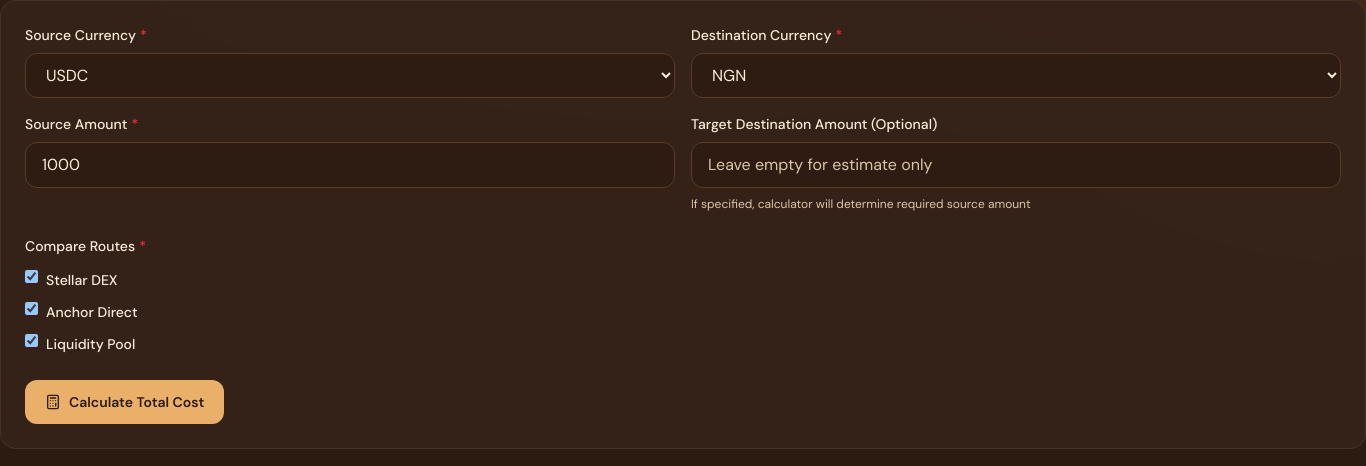
Test: CostCalculator – canSubmit guard › re-enables submit when a route is checked again
Step 1. Click the checkbox labelled "Stellar DEX" → (32, 276), box [25,270,38,283]
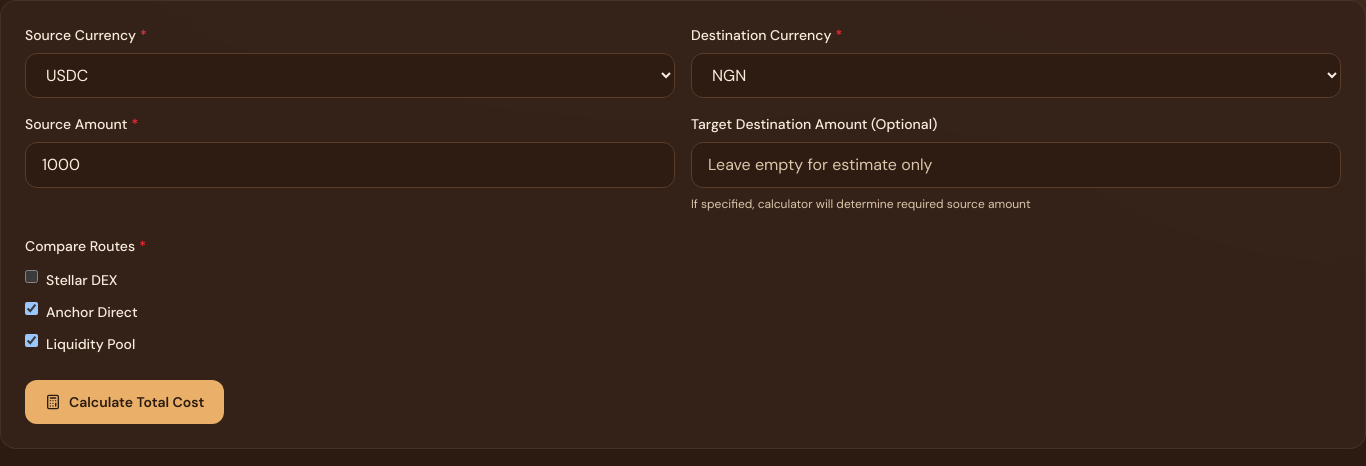
Step 2. Click the checkbox labelled "Anchor Direct" → (32, 308), box [25,302,38,315]
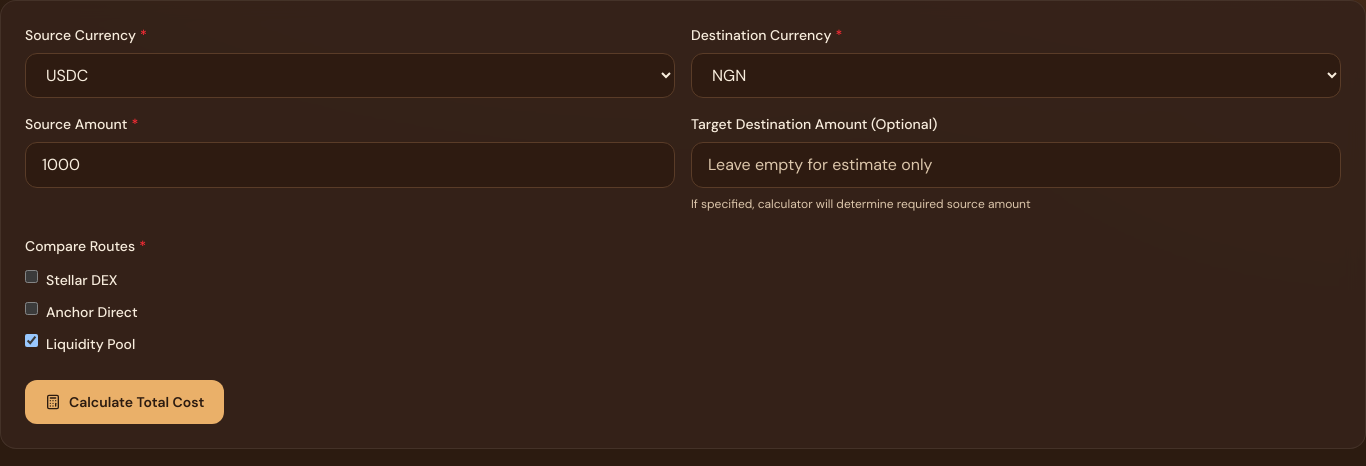
Step 3. Click the checkbox labelled "Liquidity Pool" → (32, 340), box [25,334,38,347]
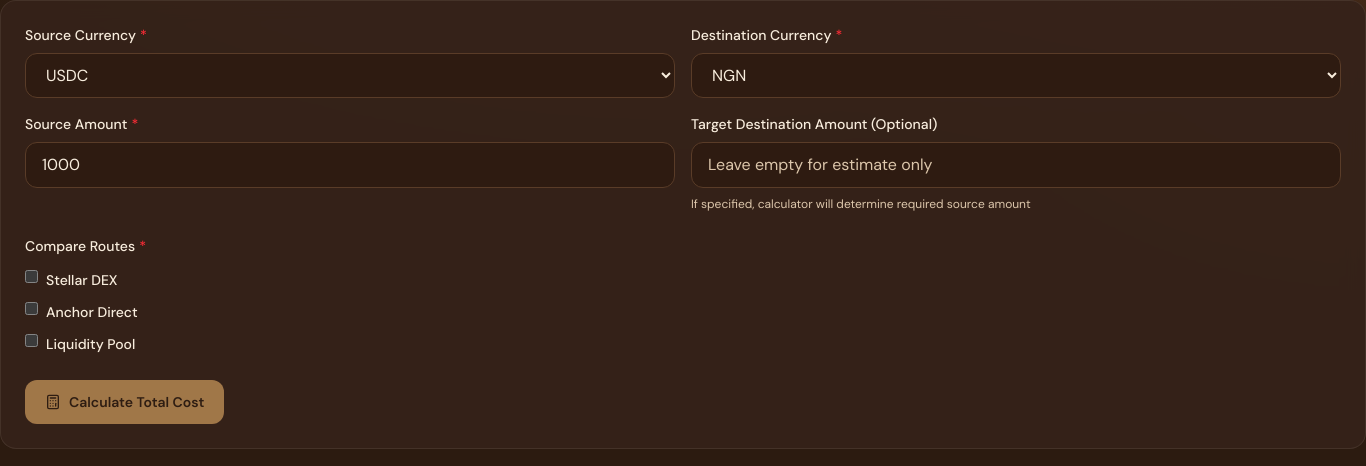
Step 4. Click the checkbox labelled "Stellar DEX" → (32, 276), box [25,270,38,283]
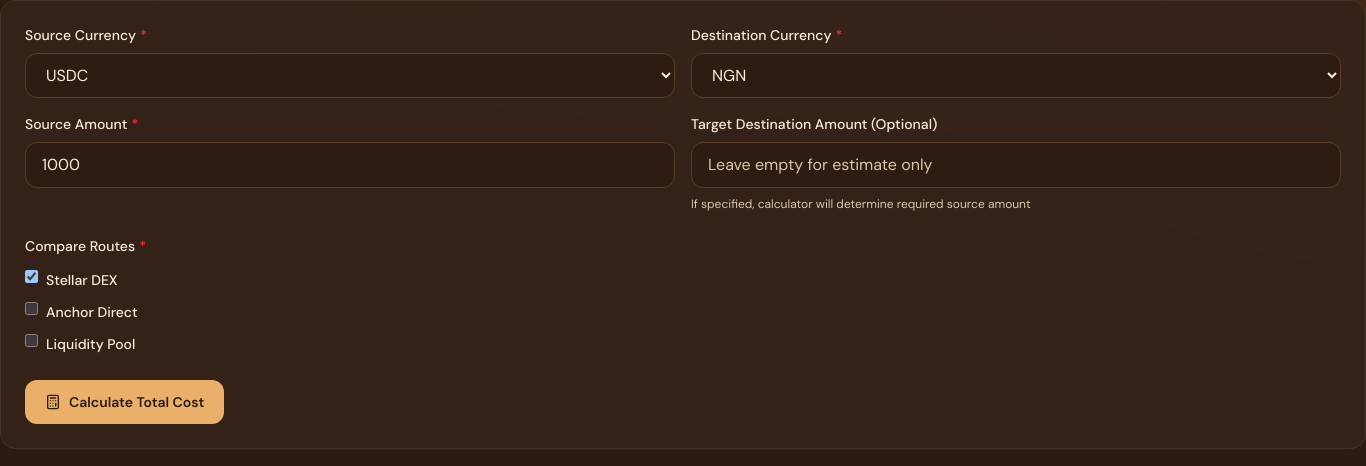
expect the button "Calculate Total Cost" is enabled: met, box [25,380,224,424]
